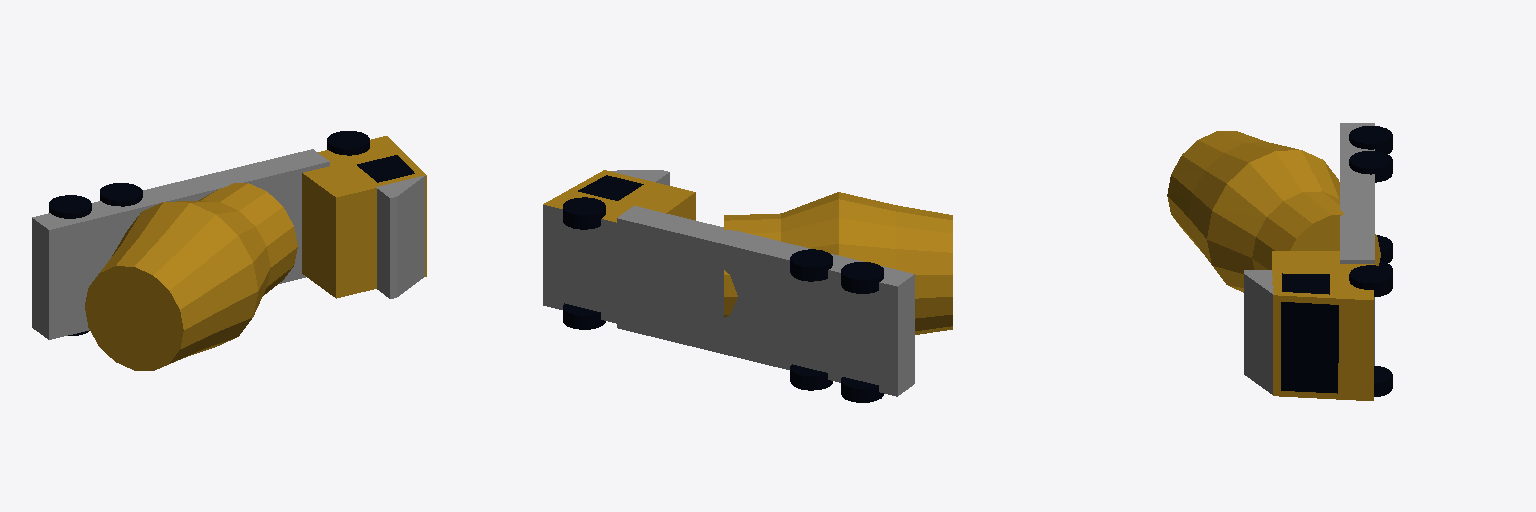
The model's file is jiaobanche.obj.
The picture shows the model from 3 angles: view 1: azimuth 30°, elevation 25°; view 2: azimuth 150°, elevation 25°; view 3: azimuth 270°, elevation 25°; orthographic projection.
Bounding box in the file's own units: 6.49 × 2.5 × 3.56.